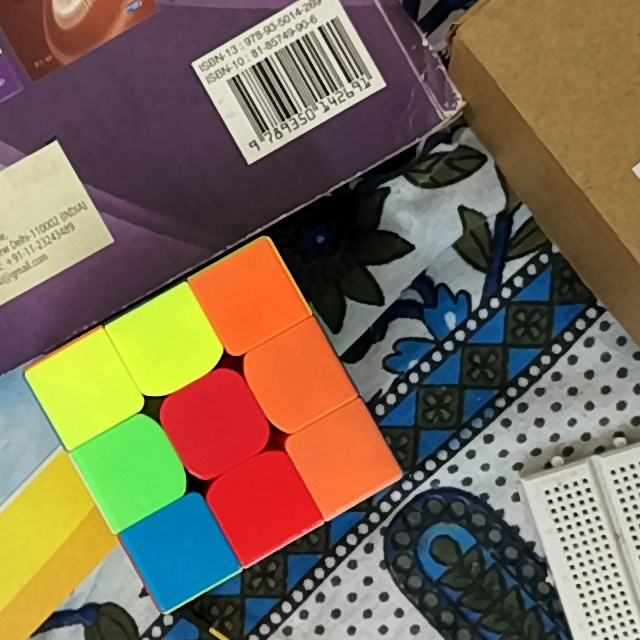tile: (181, 388, 249, 454), (100, 437, 165, 502), (148, 519, 216, 581), (217, 266, 282, 330), (229, 473, 294, 537), (134, 313, 198, 377), (52, 358, 114, 422), (268, 343, 329, 408), (316, 424, 375, 490)
